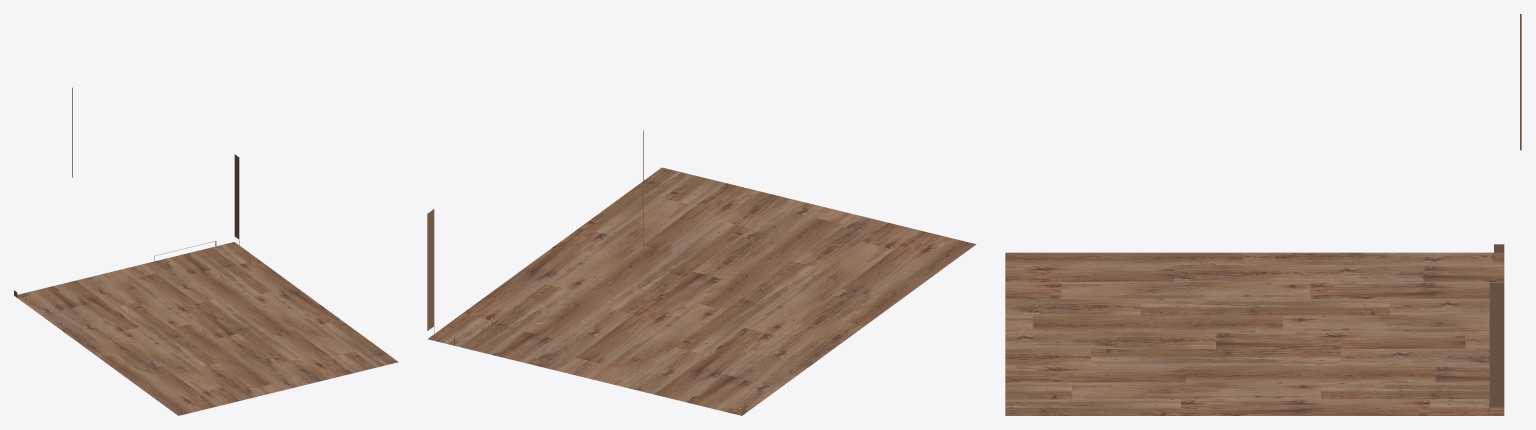
Rendered from WoodFloor.obj.
3 views of the same model, side by side, from view 1: azimuth 30°, elevation 25°; view 2: azimuth 150°, elevation 25°; view 3: azimuth 270°, elevation 25° (orthographic). The views are drawn at different scales.
Parts seen in each view (by area): view 1: WoodFloor; view 2: WoodFloor; view 3: WoodFloor.
Boxes of the visible parts, x1,y1,x2,y2 form: WoodFloor: (14, 87, 398, 415); WoodFloor: (427, 130, 976, 415); WoodFloor: (1005, 14, 1521, 415).
Bounding box in the file's own units: 33.93 × 33.5 × 45.32.
